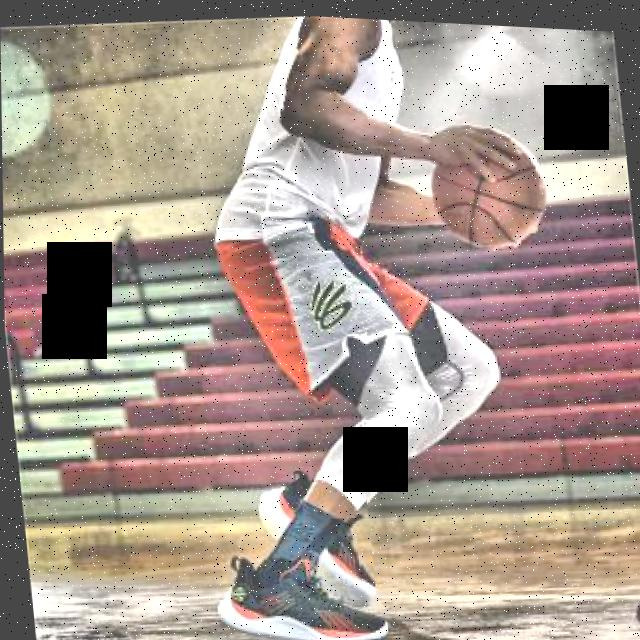shoe: (210, 536, 389, 640), (254, 461, 375, 610)
